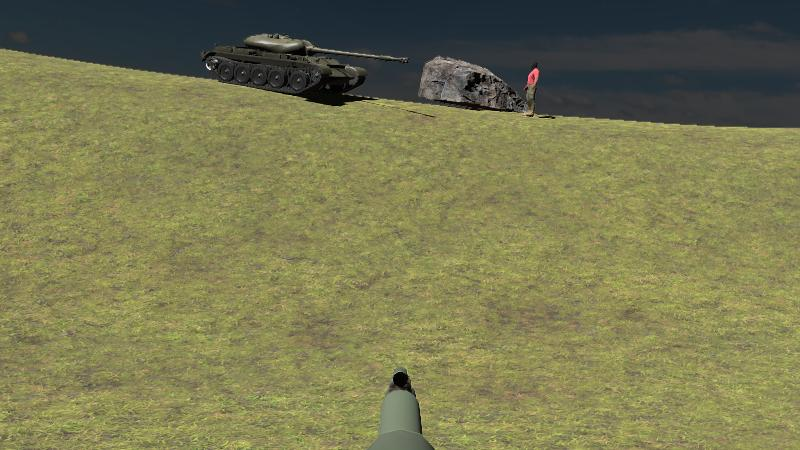Human: (523, 60, 540, 119)
Tank: (202, 32, 408, 99)
